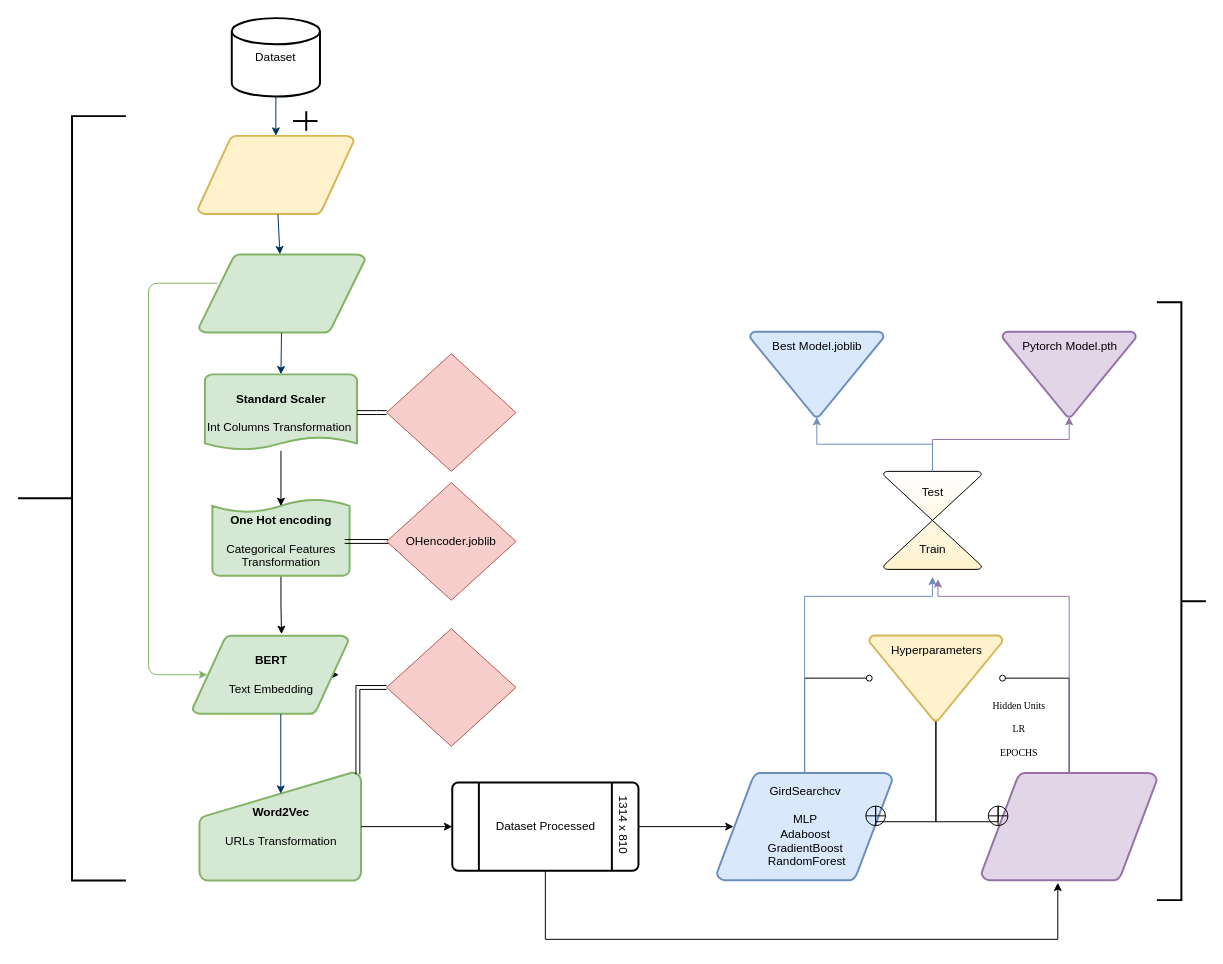
Some shapes in this 1223 by 964 pixel diagram are drawn without their labels. The centre of each missing label's shape, as x and y in pixels:
"EasyOcr Image to Text Transformation" belongs at pixel 281 293.
"Features Engineering" belongs at pixel 275 174.
"Pytorch" belongs at pixel 1068 826.
"StandardScaler.joblib" belongs at pixel 451 412.
"Word2Vec.model" belongs at pixel 451 687.
